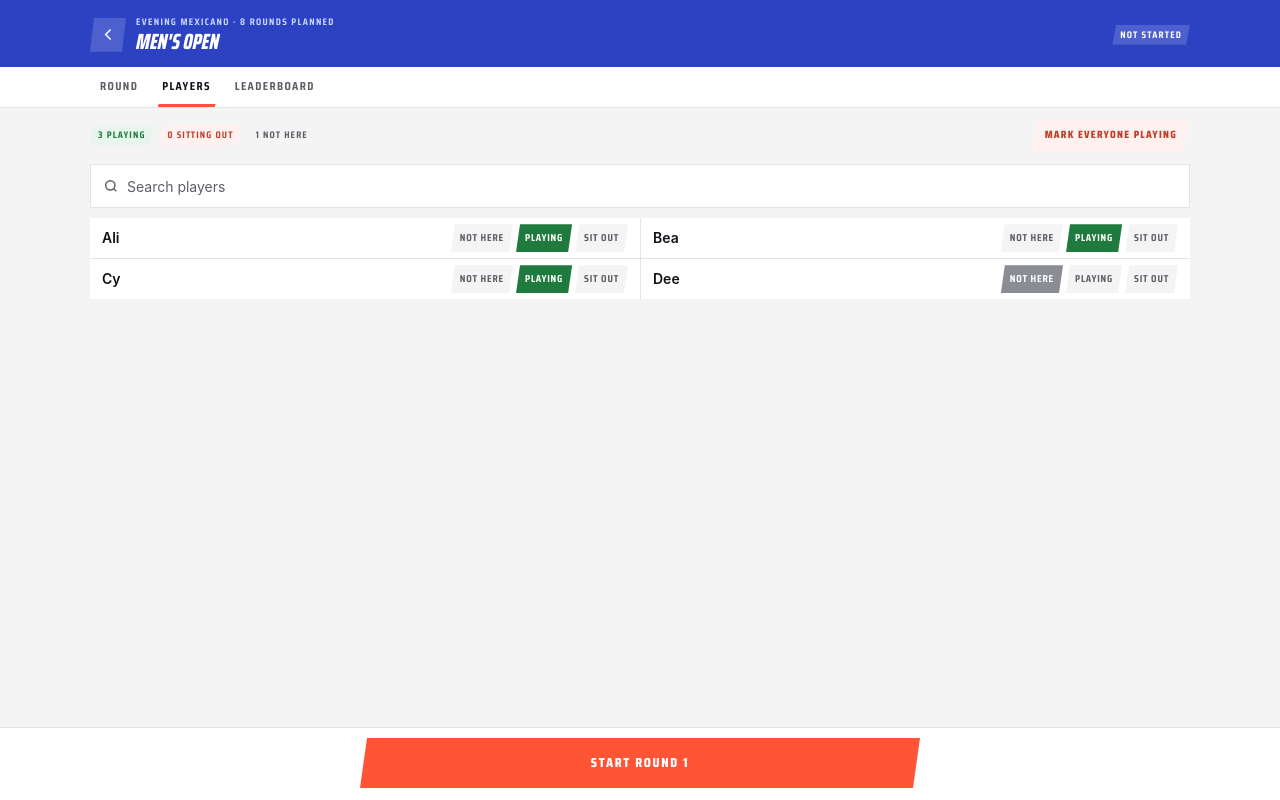
Test: starting a round shows its courts on the Round tab
expect the heading "Men's Open" is shown: met, box 136,24 -> 219,59
What coordinates should you click on to do the following:
click the button "Start round 1"
I would click on:
 (640, 763)
Its box is 360,738 -> 920,788.
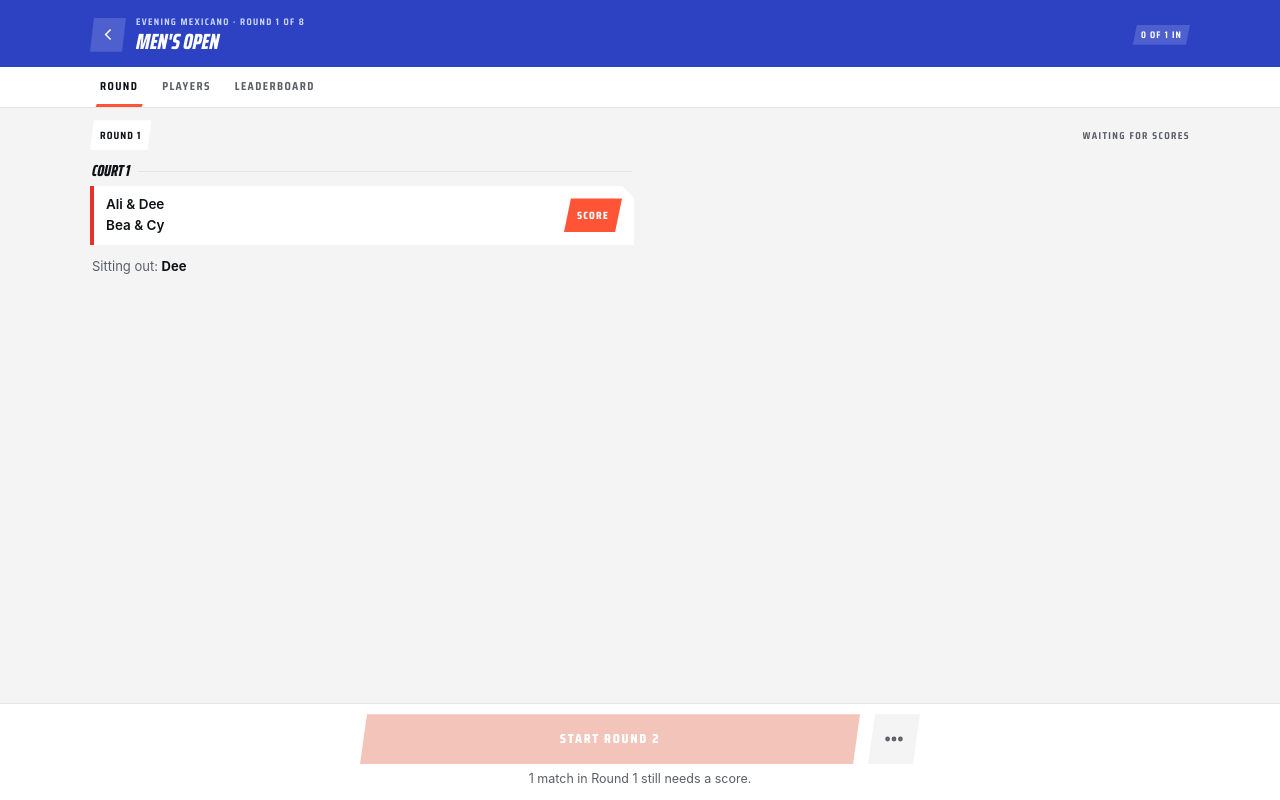
expect the heading "Court 1" is shown: met, box 92,158 -> 130,183
expect the text "Sitting out: Dee" is shown: met, box 92,258 -> 186,274
expect the text "Waiting for scores" is shown: met, box 1083,128 -> 1190,143
